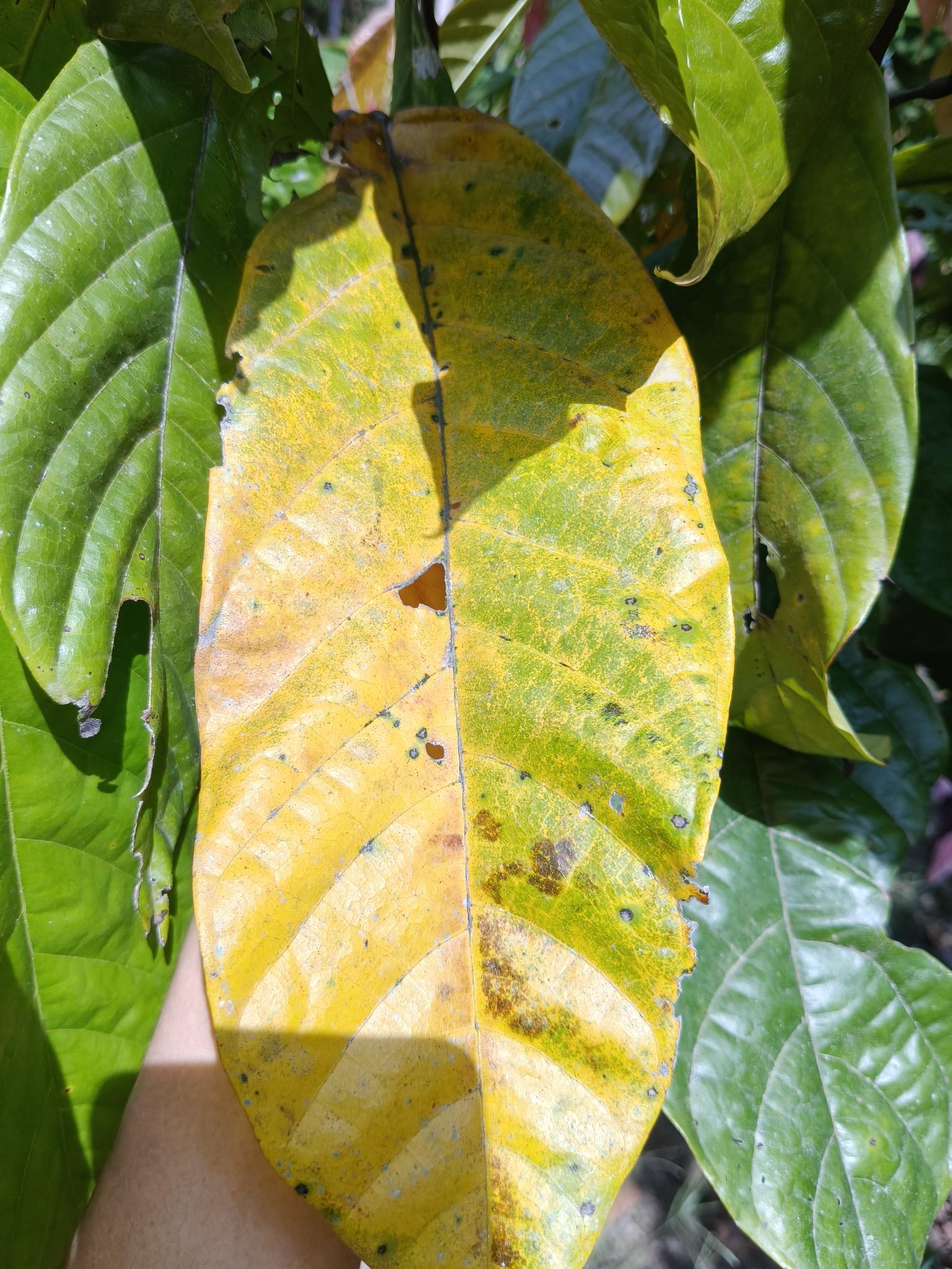Fosforo: (182, 91, 752, 1269)
